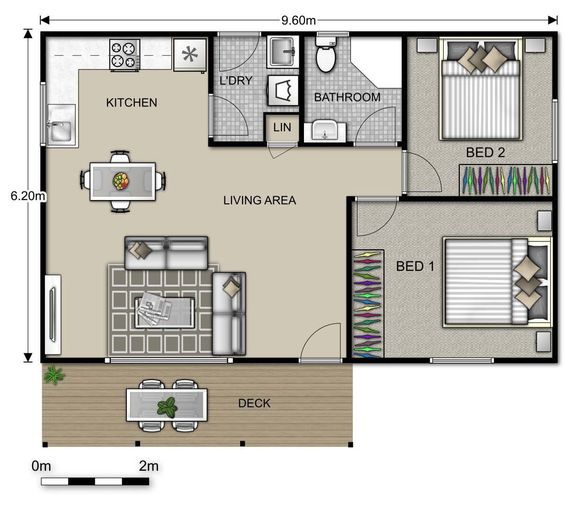door: (353, 202, 400, 244), (296, 313, 343, 355), (410, 148, 451, 194), (215, 35, 260, 75), (353, 100, 398, 140), (216, 91, 252, 139)
room: (345, 195, 558, 361), (401, 29, 558, 202), (299, 32, 407, 148)
